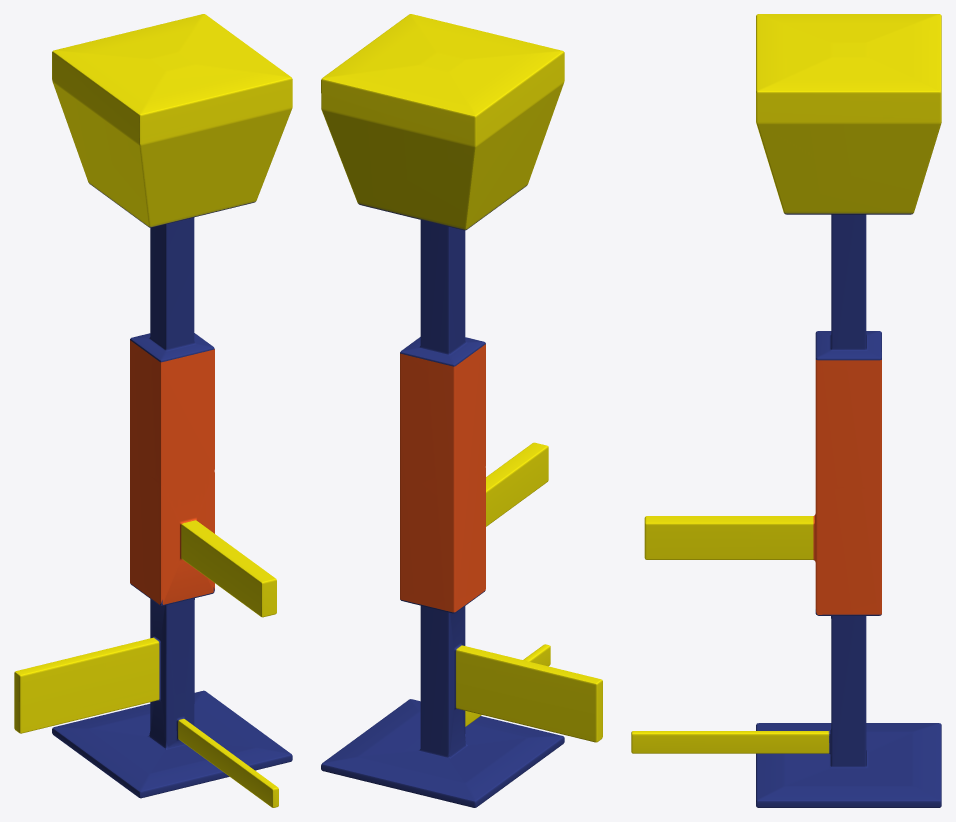
The model's file is Obstacle1.fbx.
3 views of the same model, side by side, from view 1: azimuth 30°, elevation 25°; view 2: azimuth 150°, elevation 25°; view 3: azimuth 270°, elevation 25° (orthographic). The views are drawn at different scales.
Parts seen in each view (by area): view 1: Obstacle1; view 2: Obstacle1; view 3: Obstacle1.
Boxes of the visible parts, x1,y1,x2,y2 form: Obstacle1: [14, 14, 292, 807]; Obstacle1: [321, 14, 602, 807]; Obstacle1: [631, 14, 941, 807].
Size of the model in its own units: 79.91 by 226 by 88.29.
